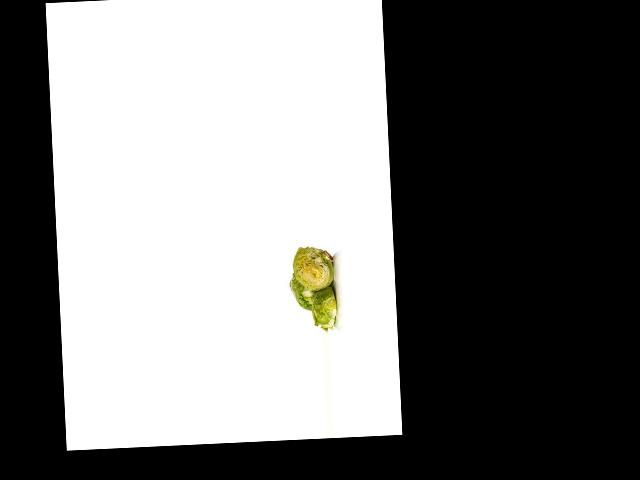lettuce: (287, 267, 319, 315)
